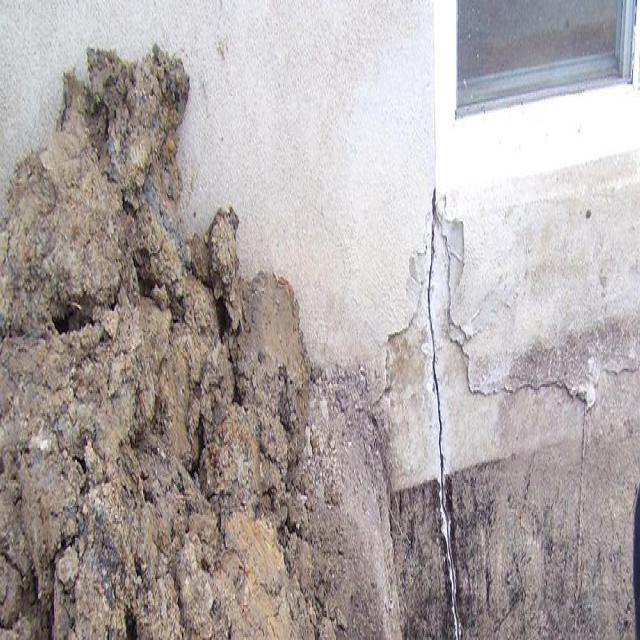crack: (425, 188, 464, 638)
